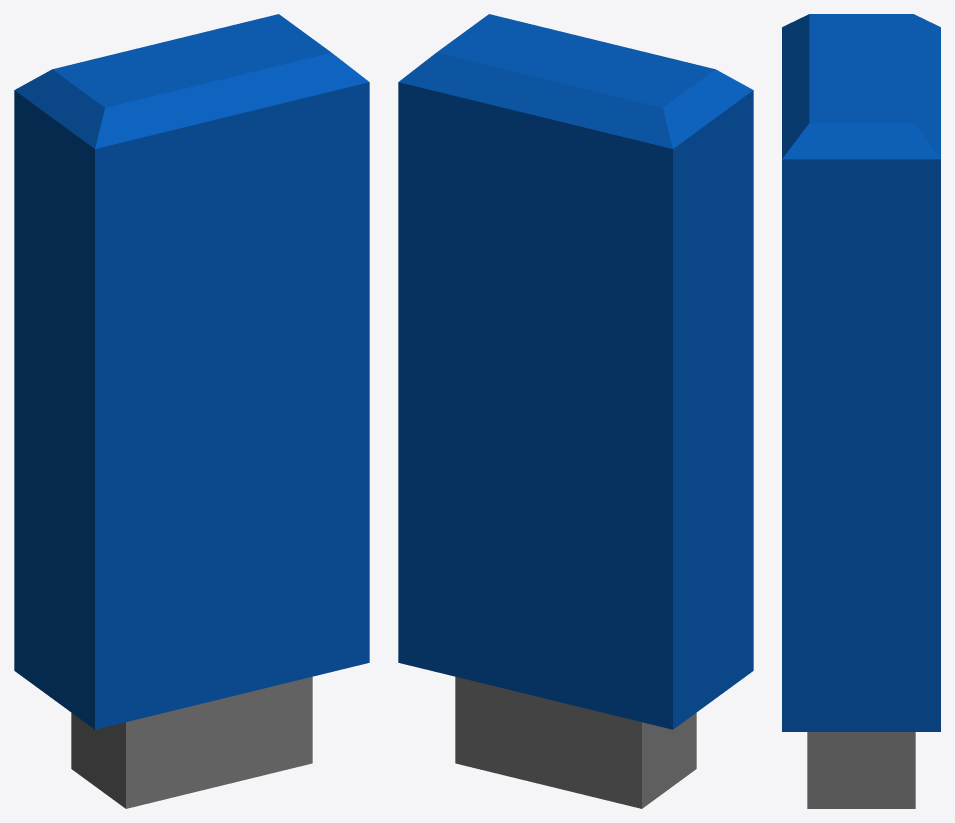
File: Shampo_2.fbx
The picture shows the model from 3 angles, left to right: view 1: azimuth 30°, elevation 25°; view 2: azimuth 150°, elevation 25°; view 3: azimuth 270°, elevation 25°; orthographic projection.
Visible parts, largest first — view 1: Shampo_2; view 2: Shampo_2; view 3: Shampo_2.
Part boxes in pixels (<box>): Shampo_2: <box>14,14,369,808</box>; Shampo_2: <box>398,14,753,808</box>; Shampo_2: <box>782,14,940,808</box>.
Size of the model in its own units: 0.0653 by 0.1602 by 0.0332.
